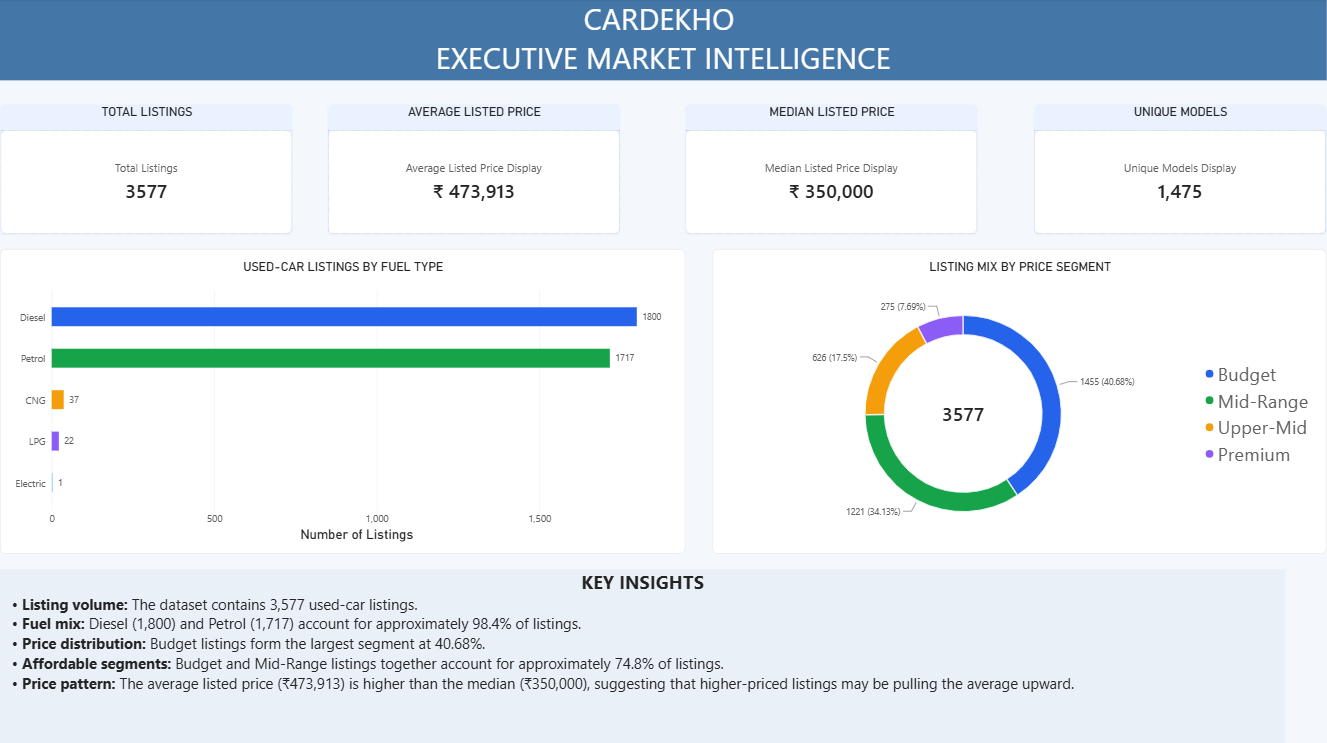

The page's visual inventory and layout, read from the dashboard file:
{"tool":"powerbi","page":{"name":"EXECUTIVE OVERVIEW","canvas":[1920,1080],"ordinal":0},"visuals":[{"type":"textbox","box":[0,0,1920.4,119.4],"z":0},{"type":"cardVisual","title":"TOTAL LISTINGS","fields":{"Data":["CarDekho.Total Listings"]},"box":[0,154.4,424,189.4],"z":1000},{"type":"cardVisual","title":"AVERAGE LISTED PRICE","fields":{"Data":["CarDekho.Average Listed Price Display"]},"box":[473.4,154.4,424,189.4],"z":2000},{"type":"cardVisual","title":"MEDIAN LISTED PRICE","fields":{"Data":["CarDekho.Median Listed Price Display"]},"box":[992.1,154.4,424,189.4],"z":3000},{"type":"cardVisual","title":"UNIQUE MODELS","fields":{"Data":["CarDekho.Unique Models Display"]},"box":[1496.4,154.4,424,189.4],"z":4000},{"type":"clusteredBarChart","title":"USED-CAR LISTINGS BY FUEL TYPE","fields":{"Category":["CarDekho.fuel"],"Y":["CountNonNull(CarDekho.name)"]},"box":[0,364.3,992.1,440.5],"z":5000},{"type":"donutChart","title":"LISTING MIX BY PRICE SEGMENT","fields":{"Category":["CarDekho.Price Segment"],"Y":["CountNonNull(CarDekho.name)"]},"box":[1031.2,364.3,889.2,440.5],"z":6000},{"type":"textbox","box":[0,827.4,1860.7,253.2],"z":7000}]}

Visuals, with their boxes in screenshot pixels (x1, y1, x2, y2), scaled from the page's 1920x1080 canvas onto the 1327x743 screenshot:
textbox: x1=0, y1=0, x2=1326, y2=82
"TOTAL LISTINGS" cardVisual: x1=0, y1=106, x2=293, y2=237
"AVERAGE LISTED PRICE" cardVisual: x1=327, y1=106, x2=620, y2=237
"MEDIAN LISTED PRICE" cardVisual: x1=686, y1=106, x2=979, y2=237
"UNIQUE MODELS" cardVisual: x1=1034, y1=106, x2=1326, y2=237
"USED-CAR LISTINGS BY FUEL TYPE" clusteredBarChart: x1=0, y1=251, x2=686, y2=554
"LISTING MIX BY PRICE SEGMENT" donutChart: x1=713, y1=251, x2=1326, y2=554
textbox: x1=0, y1=569, x2=1286, y2=742
